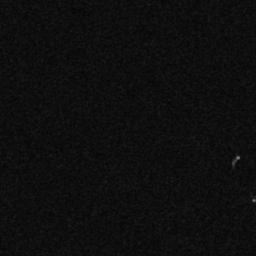ship: (231, 155, 240, 167)
